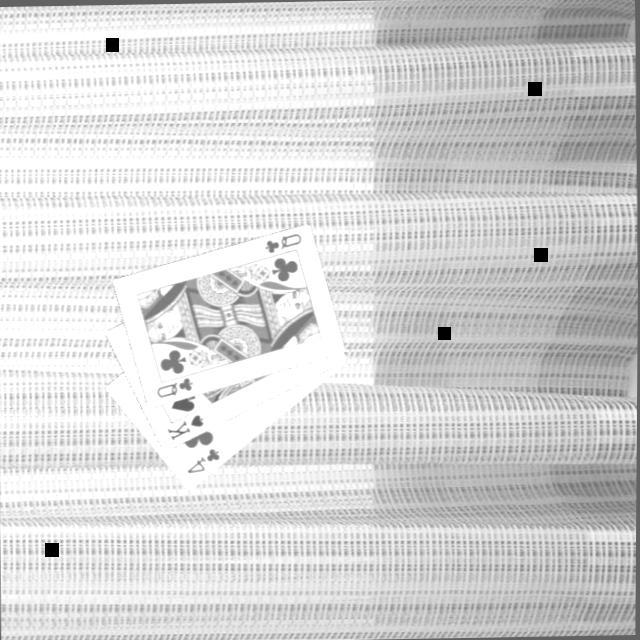4C: (182, 445, 223, 478)
KS: (163, 412, 206, 445)
QC: (260, 230, 304, 257), (153, 375, 195, 402)
